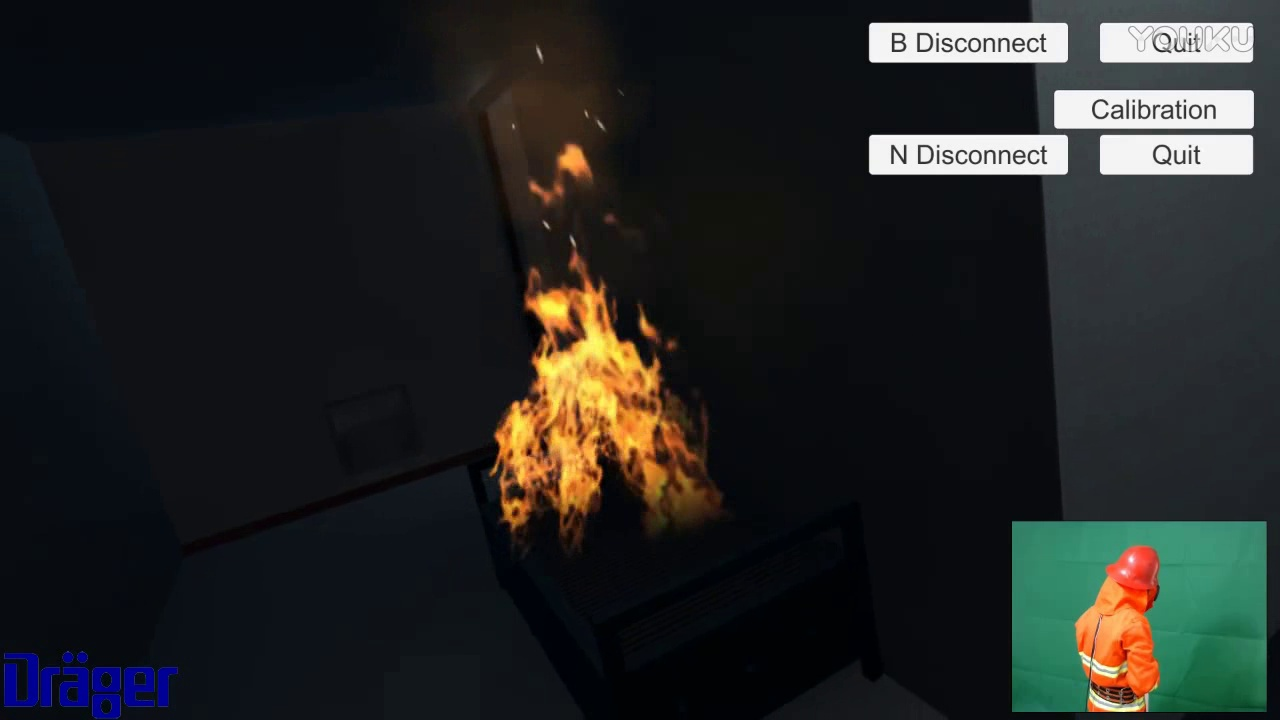fire: (462, 148, 744, 555)
